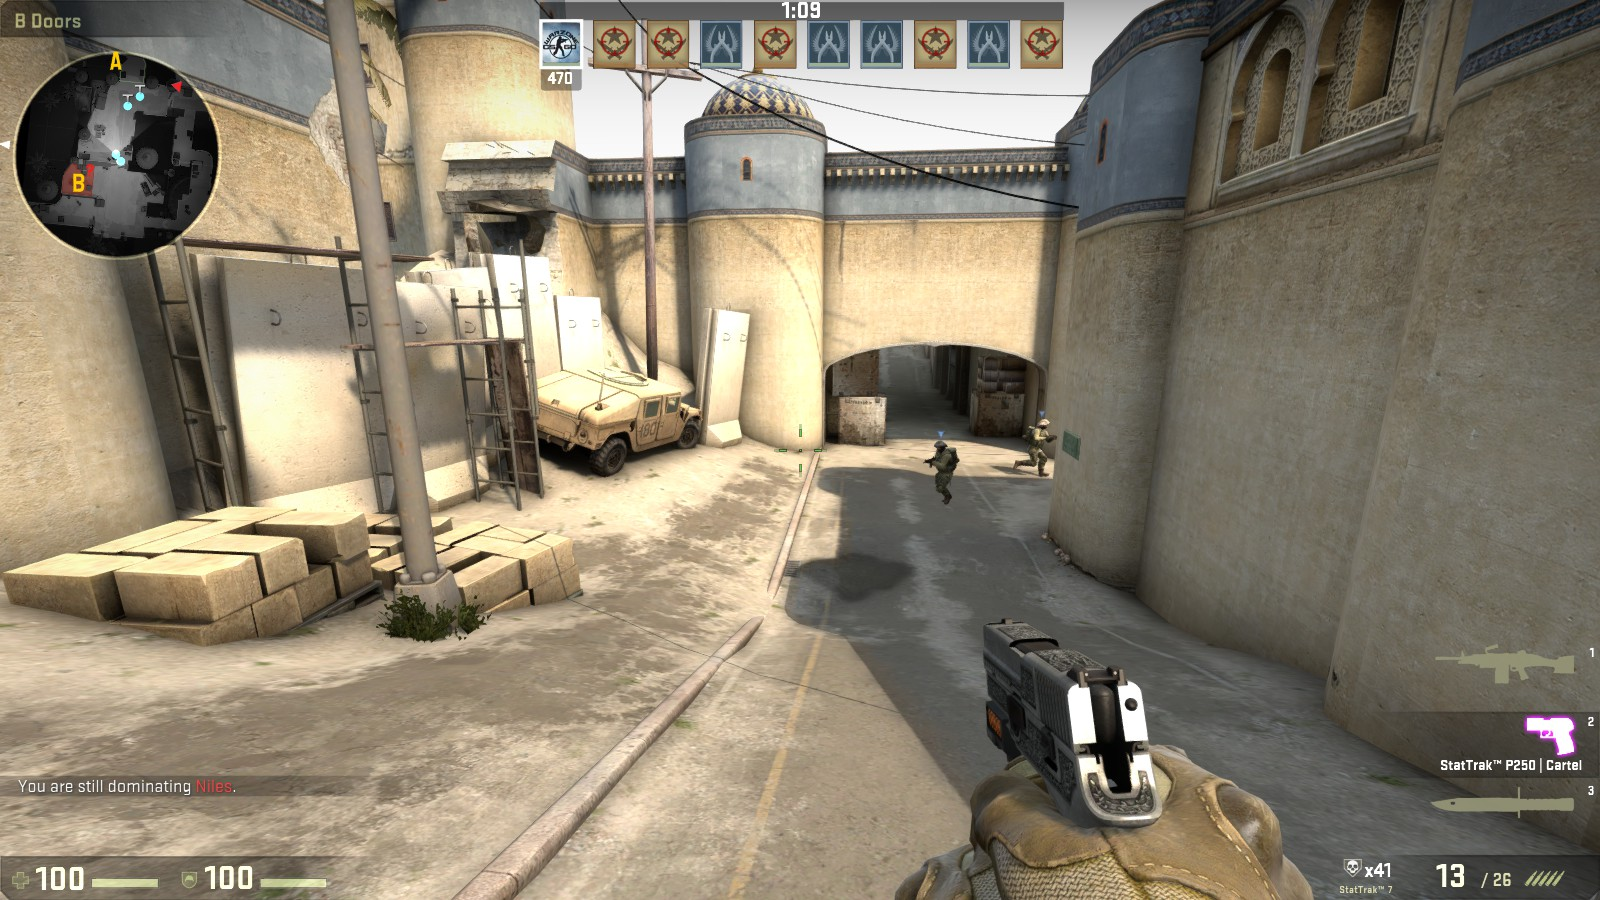c: (925, 438, 960, 503), (1021, 416, 1051, 479)
ch: (933, 440, 947, 454), (1037, 419, 1052, 431)
